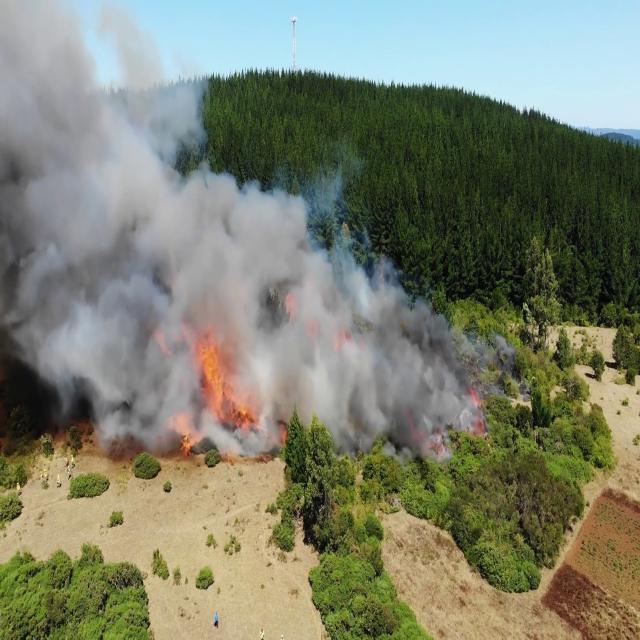Fire: (190, 326, 233, 426)
Smoke: (0, 2, 225, 444), (233, 179, 474, 456)
